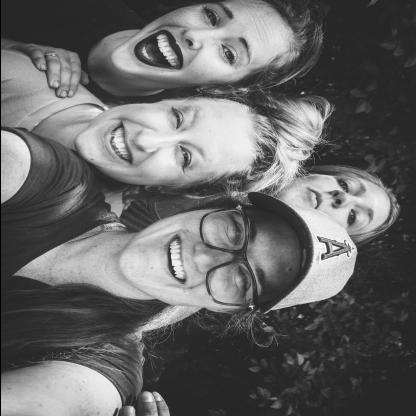Eye: (218, 41, 240, 67), (166, 106, 188, 130), (230, 268, 250, 294), (226, 218, 245, 245), (173, 146, 192, 170), (201, 5, 219, 28), (342, 209, 362, 227), (336, 176, 354, 194)
Mouth: (132, 29, 184, 73), (157, 232, 192, 286), (99, 122, 135, 166), (304, 184, 324, 210)
Nose: (190, 245, 234, 273), (130, 130, 174, 154), (178, 28, 217, 52), (330, 191, 354, 209)
